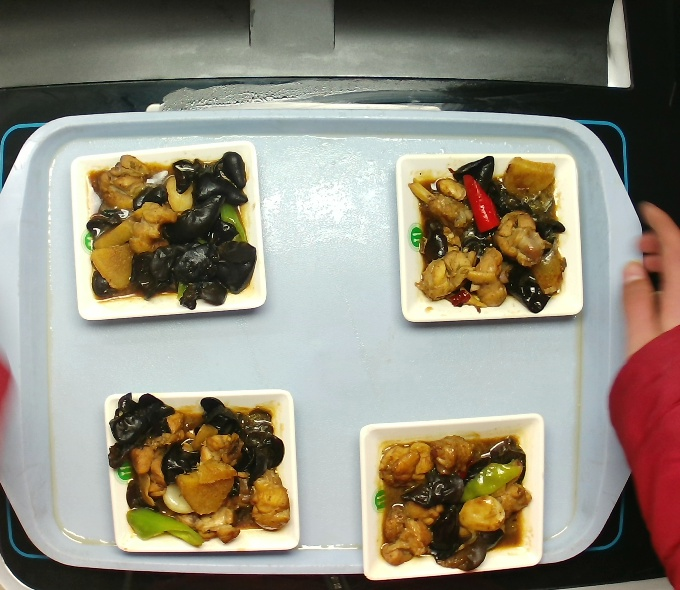wcq-MuErJiRou: (82, 144, 255, 313), (398, 149, 570, 312), (118, 387, 285, 543), (370, 419, 534, 575)
